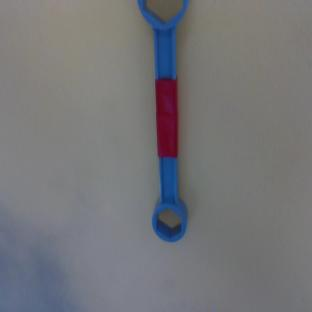part_2_good: (137, 0, 188, 242)
part_3_good: (137, 0, 188, 242)
